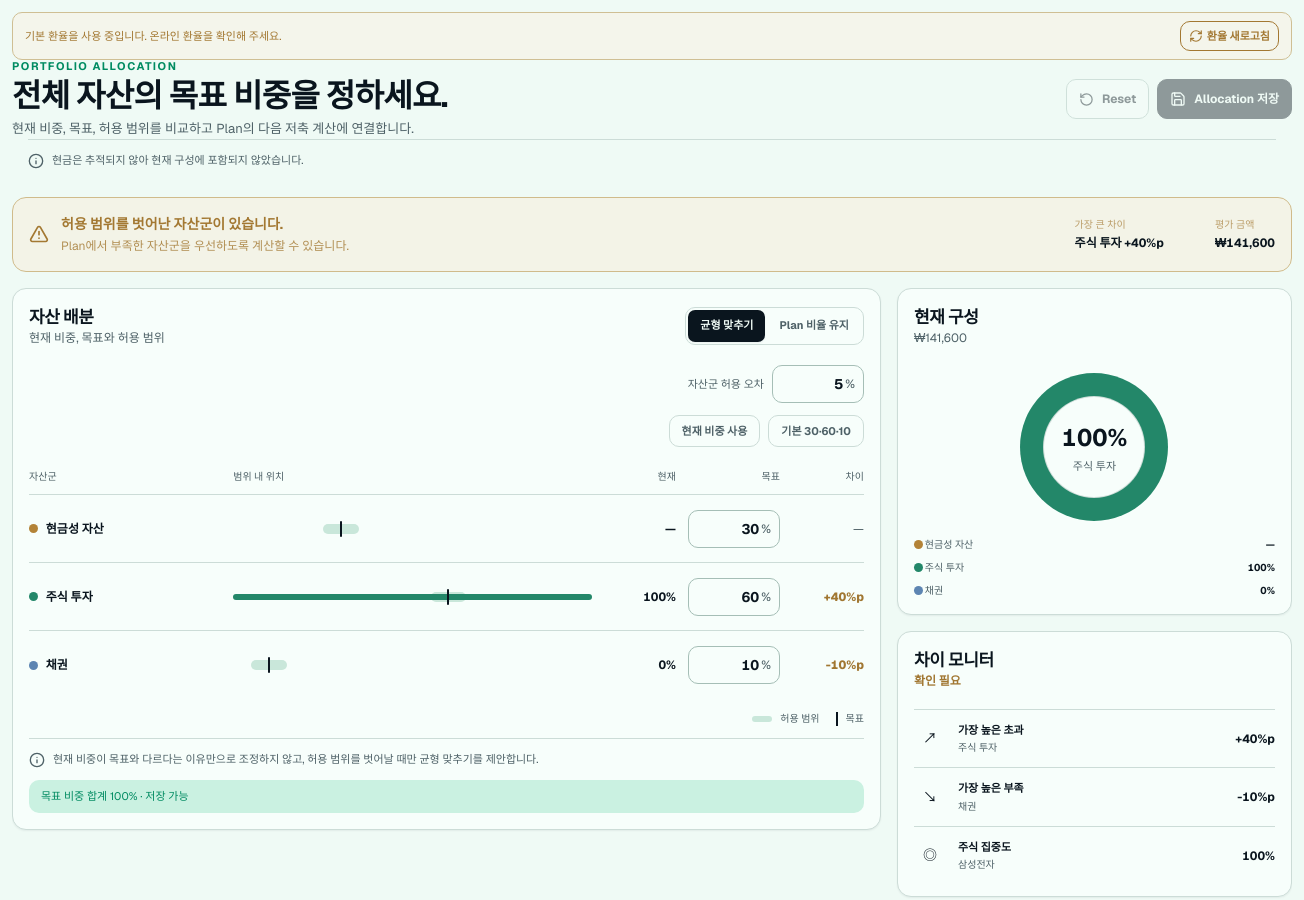
Test case: Portfolio Allocation page › uses current holdings as an exact 100% category preset
The width and height of the screenshot is (1304, 900).
What coordinates should you click on to do the following:
click the button "현재 비중 사용"
I would click on:
 (714, 431)
Its box is x1=669 y1=415 x2=760 y2=447.
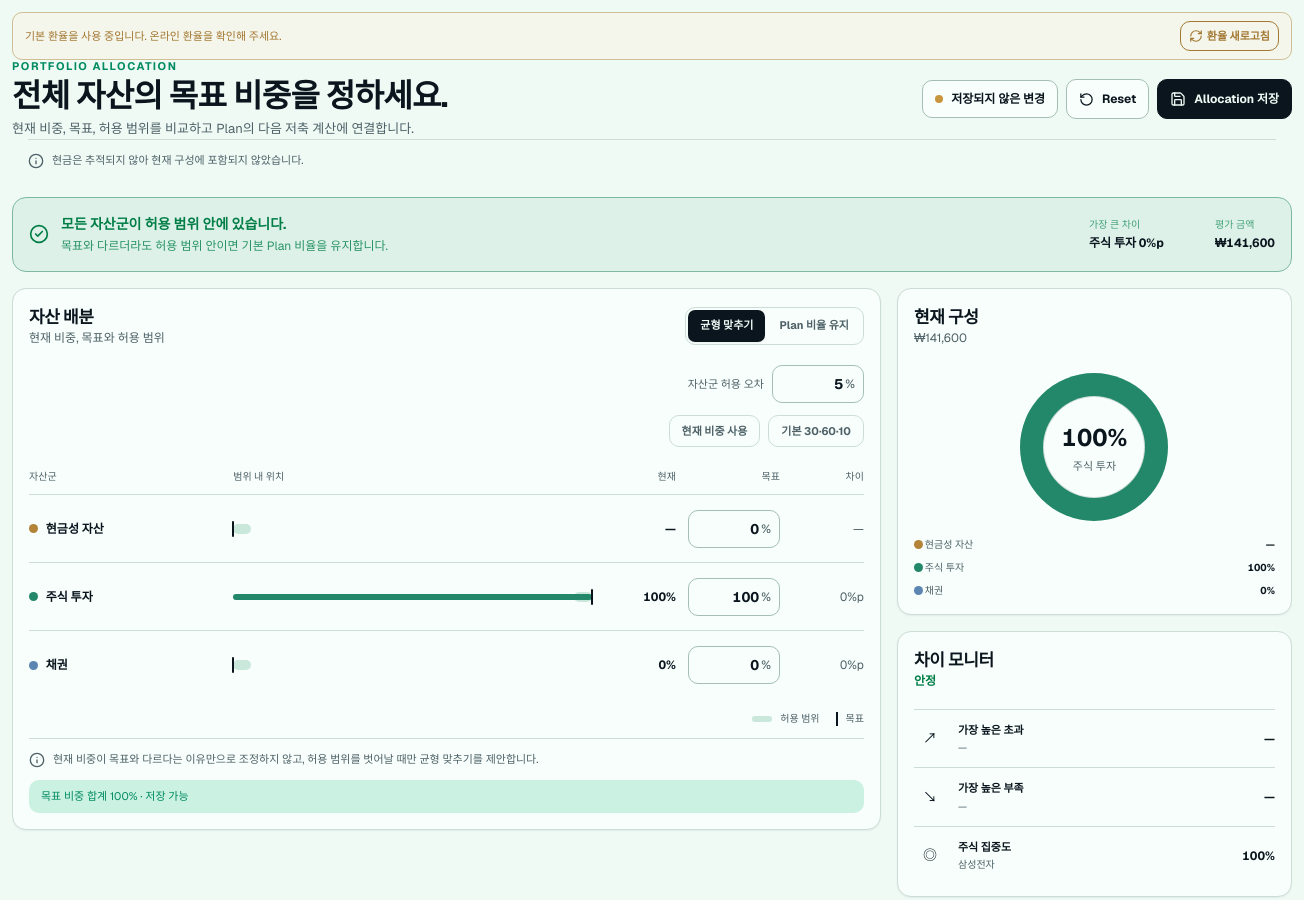
Expected: the field named "현금성 자산 전체 목표 (%)" holds "0", x1=689 y1=511 x2=761 y2=547
Expected: the field named "주식 투자 전체 목표 (%)" holds "100", x1=689 y1=579 x2=761 y2=615
Expected: the field named "채권 전체 목표 (%)" holds "0", x1=689 y1=647 x2=761 y2=683
